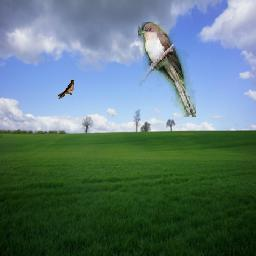Cuckoo: (138, 23, 196, 118)
Swallow: (56, 79, 75, 99)
